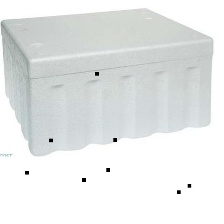foam_box: (0, 4, 217, 159)
